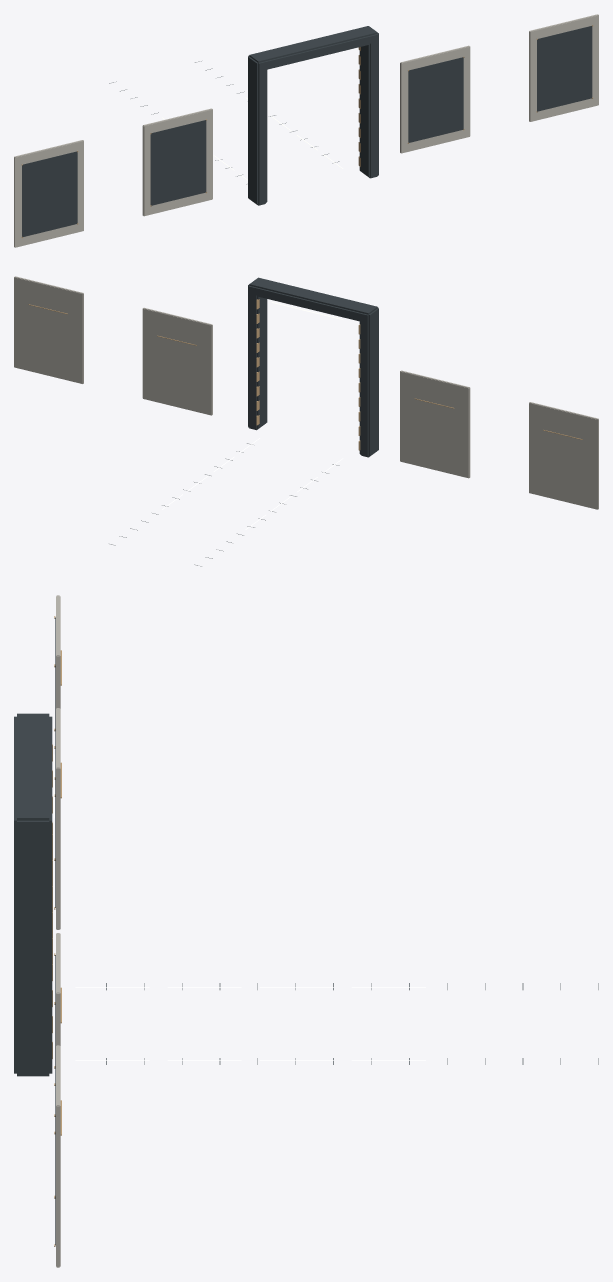
The model's file is A-arrival.glb.
The picture shows the model from 3 angles, top to bottom: view 1: azimuth 30°, elevation 25°; view 2: azimuth 150°, elevation 25°; view 3: azimuth 270°, elevation 25°; orthographic projection. The views are drawn at different scales.
Parts seen in each view (by area): view 1: A-arrival-basalt, A-arrival-limestone; view 2: A-arrival-limestone, A-arrival-basalt, A-arrival-bronze; view 3: A-arrival-basalt, A-arrival-limestone.
Boxes of the visible parts, x1=… form: A-arrival-basalt: x1=22, y1=26, x2=592, y2=237; A-arrival-limestone: x1=14, y1=14, x2=598, y2=247; A-arrival-limestone: x1=14, y1=276, x2=598, y2=509; A-arrival-basalt: x1=110, y1=277, x2=378, y2=566; A-arrival-bronze: x1=28, y1=299, x2=582, y2=450; A-arrival-basalt: x1=14, y1=617, x2=598, y2=1245; A-arrival-limestone: x1=56, y1=595, x2=60, y2=1267.
Size of the model in its own units: 23.6 by 5.57 by 11.43.
